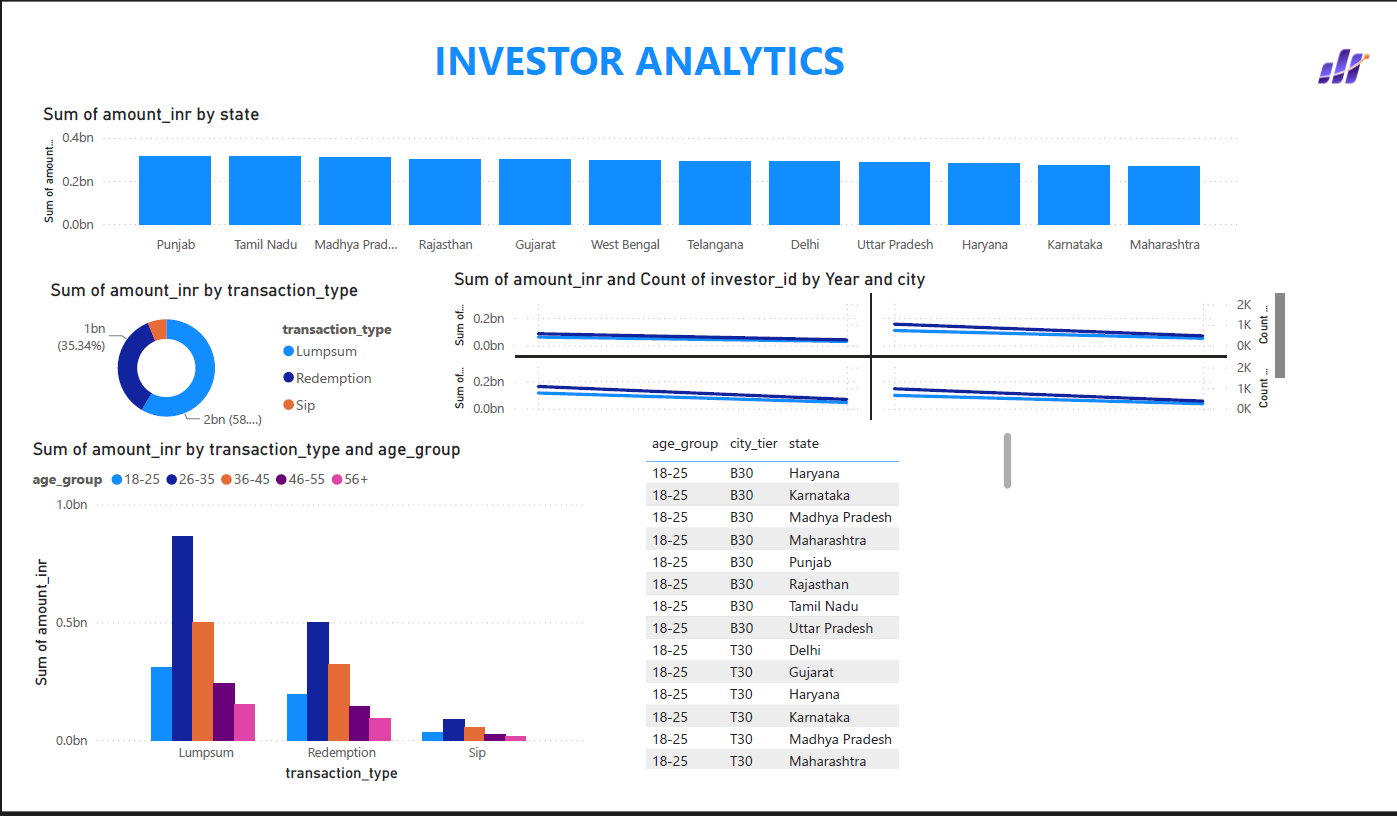

The dashboard page shown, as its layout file describes it:
{"tool":"powerbi","page":{"name":"Investor Analytics","canvas":[1280,720],"ordinal":2},"visuals":[{"type":"textbox","box":[10,0,1143,72],"z":0},{"type":"clusteredColumnChart","fields":{"Y":["Sum(investor_transactions_clean.amount_inr)"],"Category":["investor_transactions_clean.state"]},"box":[10,72,1143,150],"z":1000},{"type":"donutChart","fields":{"Category":["investor_transactions_clean.transaction_type"],"Y":["Sum(investor_transactions_clean.amount_inr)"]},"box":[17,239,338,150],"z":2000},{"type":"lineClusteredColumnComboChart","fields":{"Category":["investor_transactions_clean.transaction_type"],"Y":["Sum(investor_transactions_clean.amount_inr)"],"Series":["investor_transactions_clean.age_group"]},"box":[0,390,535,330],"z":3000},{"type":"lineChart","fields":{"Category":["investor_transactions_clean.transaction_date.Variation.Date Hierarchy.Year","investor_transactions_clean.transaction_date.Variation.Date Hierarchy.Quarter","investor_transactions_clean.transaction_date.Variation.Date Hierarchy.Month","investor_transactions_clean.transaction_date.Variation.Date Hierarchy.Day","investor_transactions_clean.age_group","investor_transactions_clean.city_tier"],"Y":["Sum(investor_transactions_clean.amount_inr)"],"Y2":["CountNonNull(investor_transactions_clean.investor_id)"],"Rows":["investor_transactions_clean.city"]},"box":[400,229,798,150],"z":4000},{"type":"tableEx","fields":{"Values":["investor_transactions_clean.age_group","investor_transactions_clean.city_tier","investor_transactions_clean.state"]},"box":[582,379,358,330],"z":5000},{"type":"image","box":[1218,0,62,75],"z":5001}]}

Visuals, with their boxes on the page's 1280x720 design canvas (x1, y1, x2, y2). These are canvas units, not pixel positions in the 1397x816 screenshot, which may show the page scaled, cropped or inside an application window:
textbox: 10:0:1153:72
clusteredColumnChart - Sum(investor_transactions_clean.amount_inr) x investor_transactions_clean.state: 10:72:1153:222
donutChart - investor_transactions_clean.transaction_type x Sum(investor_transactions_clean.amount_inr): 17:239:355:389
lineClusteredColumnComboChart - investor_transactions_clean.transaction_type x Sum(investor_transactions_clean.amount_inr): 0:390:535:720
lineChart - investor_transactions_clean.transaction_date.Variation.Date Hierarchy.Year x investor_transactions_clean.transaction_date.Variation.Date Hierarchy.Quarter: 400:229:1198:379
tableEx - investor_transactions_clean.age_group x investor_transactions_clean.city_tier: 582:379:940:709
image: 1218:0:1280:75
